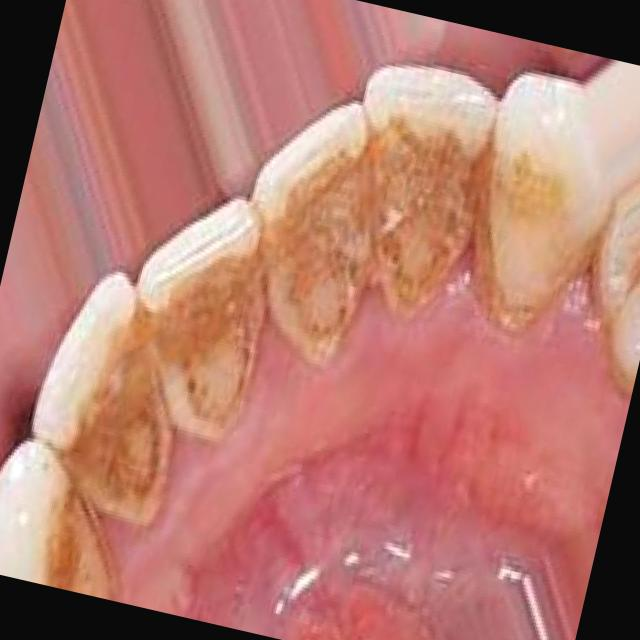calculus: (328, 33, 516, 354), (111, 170, 296, 480), (13, 270, 210, 536), (232, 94, 408, 384), (457, 70, 612, 368)
